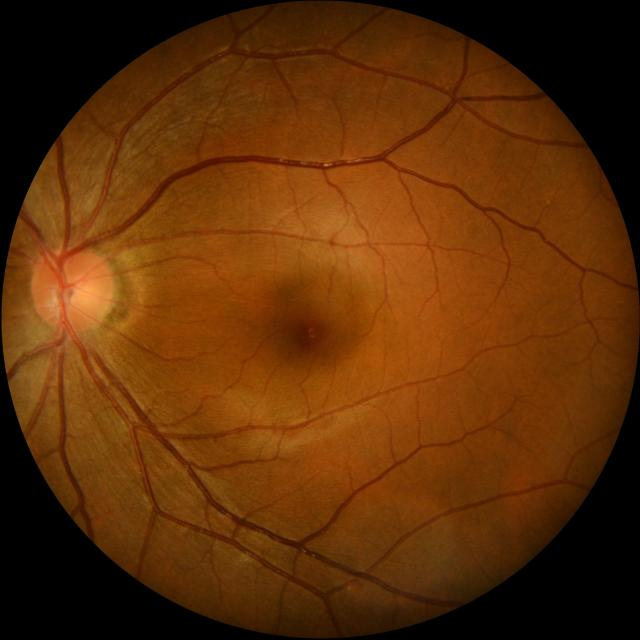OC: (58, 279, 91, 308)
OD: (30, 245, 111, 332)
